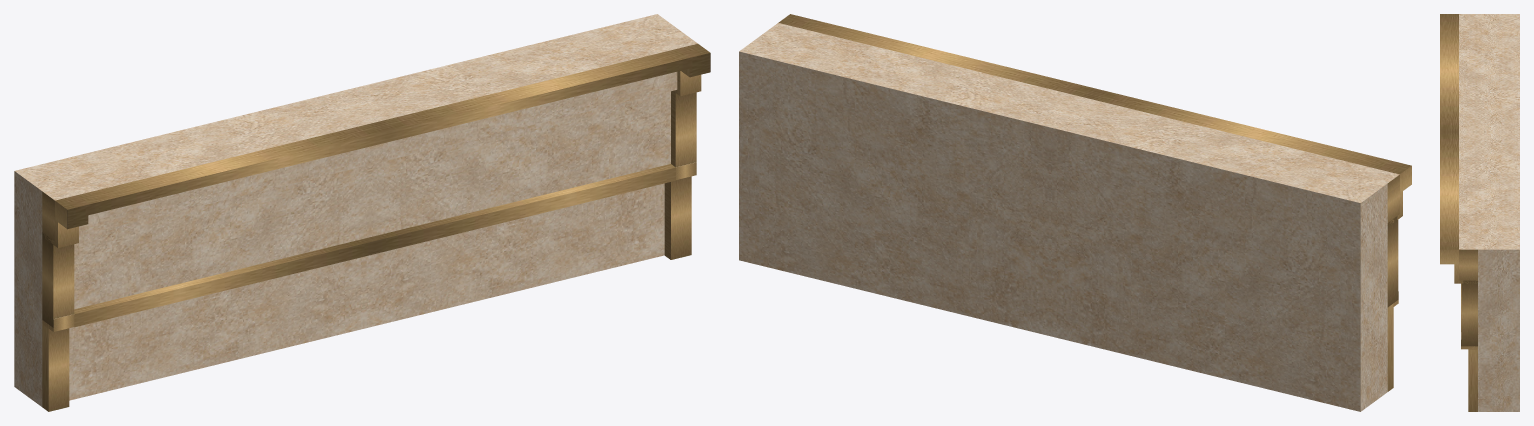
Rendered from hubwalltopper.gltf.
3 views of the same model, side by side, from view 1: azimuth 30°, elevation 25°; view 2: azimuth 150°, elevation 25°; view 3: azimuth 270°, elevation 25° (orthographic). The views are drawn at different scales.
Parts seen in each view (by area): view 1: Cube; view 2: Cube; view 3: Cube.
Part boxes in pixels (left/top/right/bottom): Cube: left=14, top=14, right=710, bottom=411; Cube: left=739, top=14, right=1411, bottom=411; Cube: left=1440, top=14, right=1519, bottom=411.
Size of the model in its own units: 7.69 by 2.47 by 1.1.
1 material, 1 textured.
